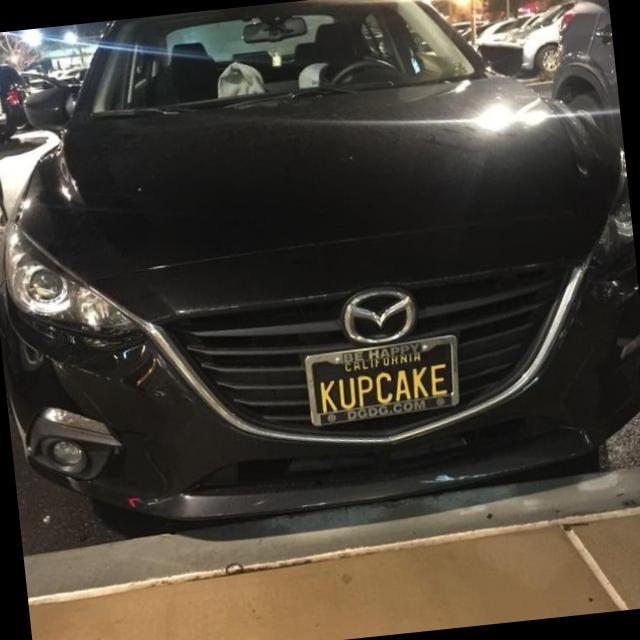LicensePlate: (304, 334, 459, 428)
